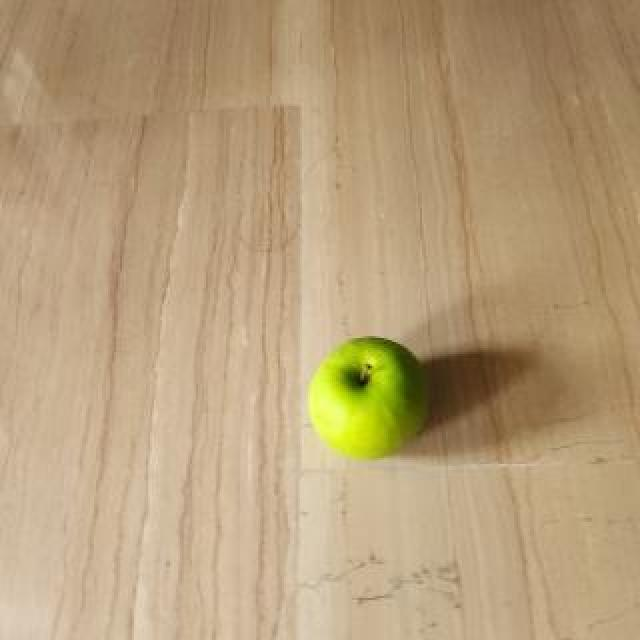Fresh Apple: (295, 336, 435, 466)
